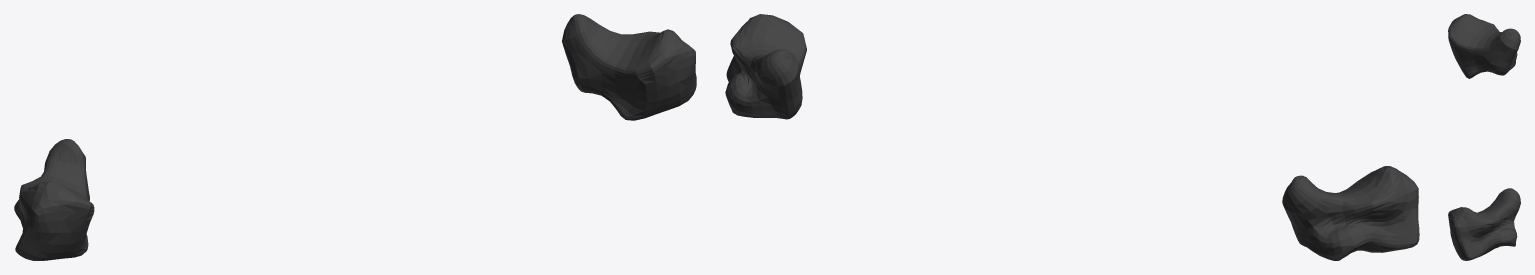
File: b_carpals_radial_L_LO.glb
3 renders of one model, left to right at view 1: azimuth 30°, elevation 25°; view 2: azimuth 150°, elevation 25°; view 3: azimuth 270°, elevation 25°, orthographic. The views are drawn at different scales.
Visible parts, largest first — view 1: b_carpals_radial_L_LO; view 2: b_carpals_radial_L_LO; view 3: b_carpals_radial_L_LO.
Boxes of the visible parts, box(x1,y1,x2,y2) form: b_carpals_radial_L_LO: box(14, 14, 696, 260); b_carpals_radial_L_LO: box(725, 14, 1419, 260); b_carpals_radial_L_LO: box(1448, 14, 1520, 260).
Size of the model in its own units: 0.00271 by 0.000327 by 0.000392.
1 material, 1 textured.
